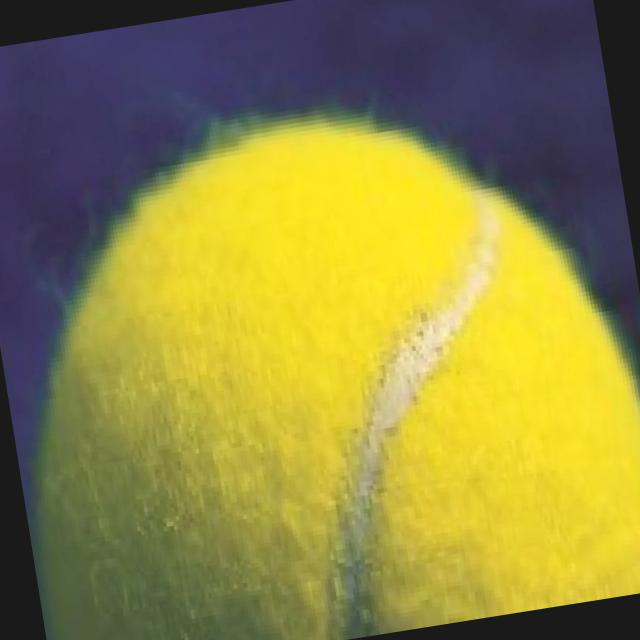Tennis Ball: (33, 116, 640, 640)
